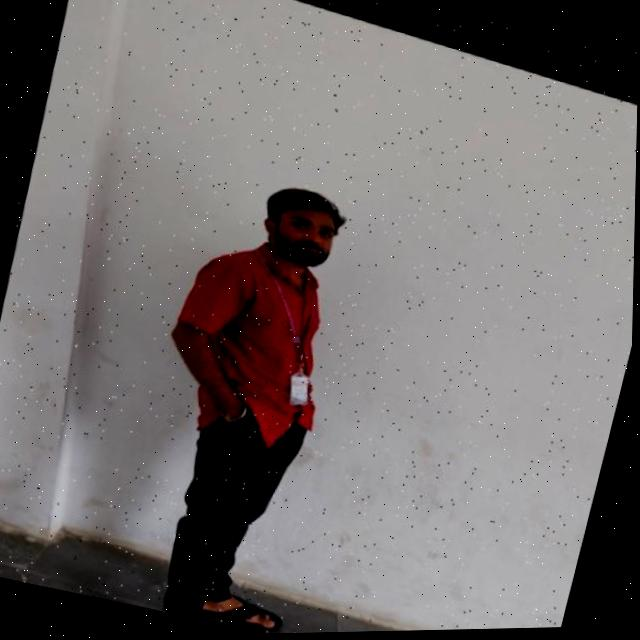id_card: (231, 250, 356, 416)
